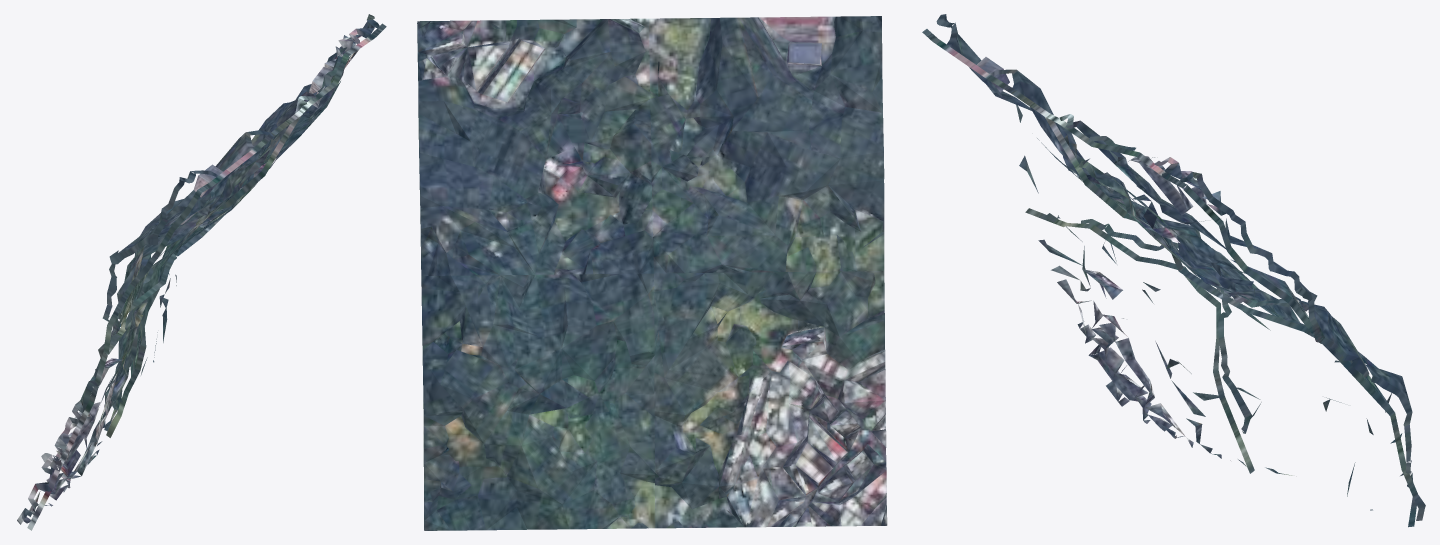
3 views of the same model, side by side, from view 1: azimuth 30°, elevation 25°; view 2: azimuth 150°, elevation 25°; view 3: azimuth 270°, elevation 25° (orthographic). The views are drawn at different scales.
Bounding box in the file's own units: 614 × 575 × 598.
Materials: 2 (2 with a texture image).
